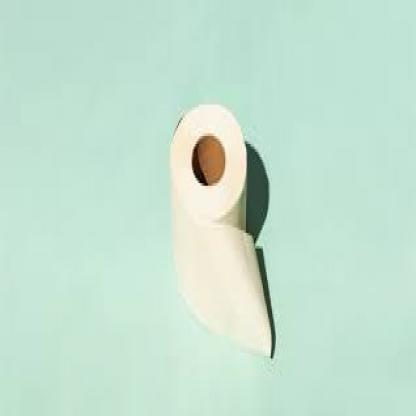tissue: (170, 98, 267, 356)
